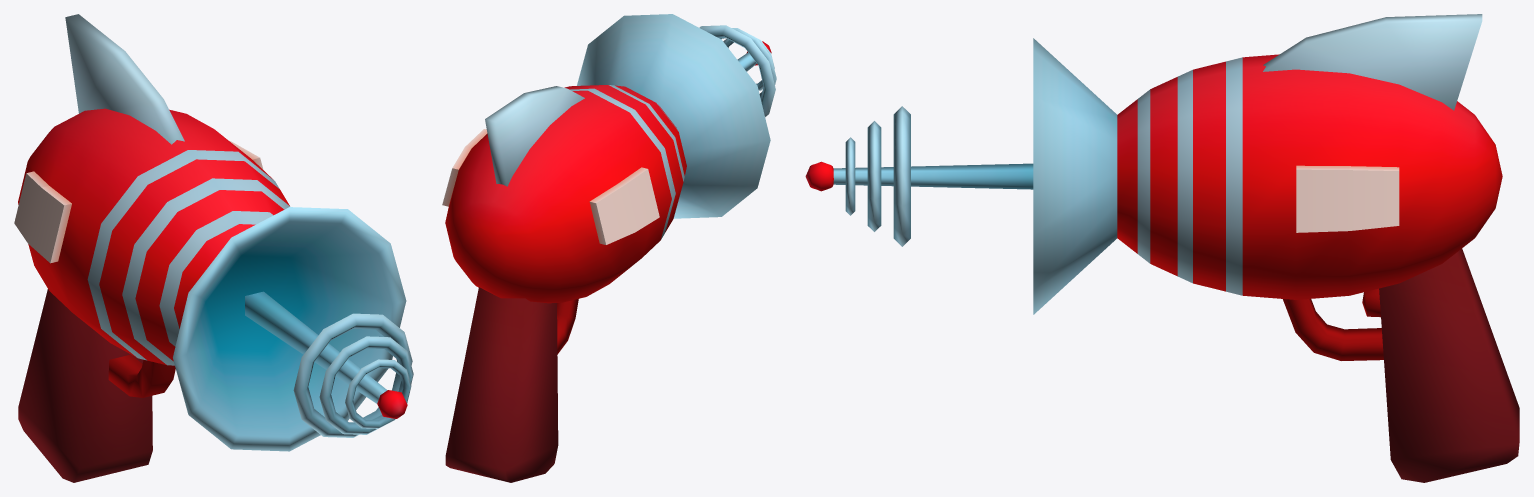
File: blaster.fbx
3 views of the same model, side by side, from view 1: azimuth 30°, elevation 25°; view 2: azimuth 150°, elevation 25°; view 3: azimuth 270°, elevation 25° (orthographic). The views are drawn at different scales.
Visible parts, largest first — view 1: blaster; view 2: blaster; view 3: blaster.
Boxes of the visible parts, box(x1,y1,x2,y2) form: blaster: box(14, 14, 413, 482); blaster: box(442, 14, 776, 482); blaster: box(805, 14, 1519, 482).
Bounding box in the file's own units: 9.59 × 17 × 24.62.
